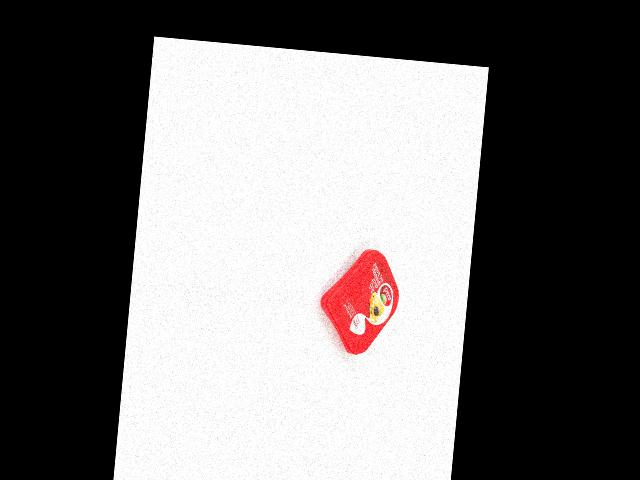cheese: (315, 245, 403, 358)
